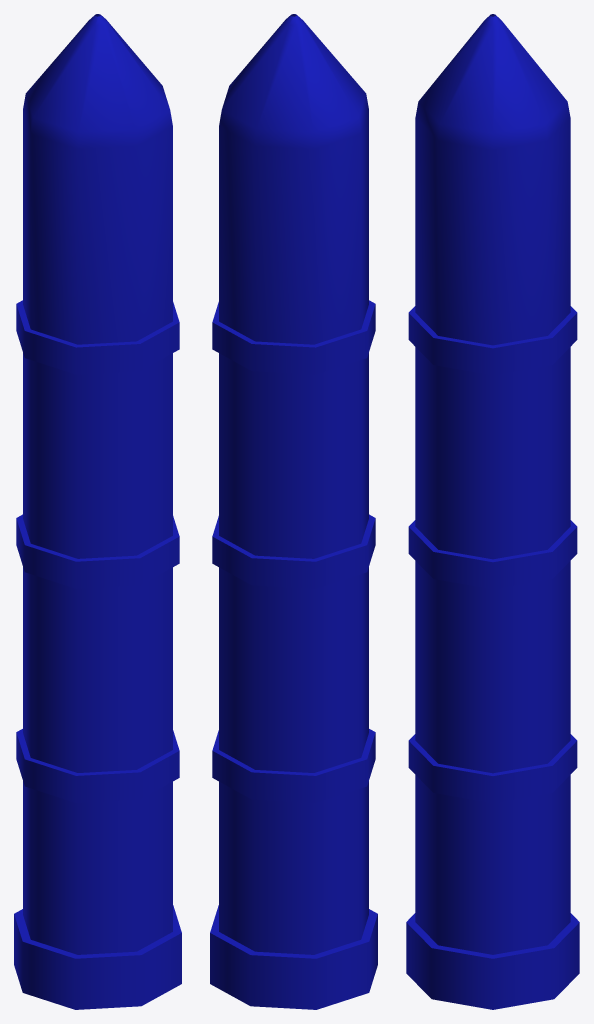
Rendered from Rocket_Jetpack_Auto.fbx.
3 renders of one model, left to right at view 1: azimuth 30°, elevation 25°; view 2: azimuth 150°, elevation 25°; view 3: azimuth 270°, elevation 25°, orthographic.
Visible parts, largest first — view 1: Cylinder014; view 2: Cylinder014; view 3: Cylinder014.
Boxes of the visible parts, x1,y1,x2,y2 form: Cylinder014: [14, 14, 181, 1009]; Cylinder014: [210, 14, 377, 1009]; Cylinder014: [406, 14, 579, 1009].
Size of the model in its own units: 19.07 by 116 by 19.07.
